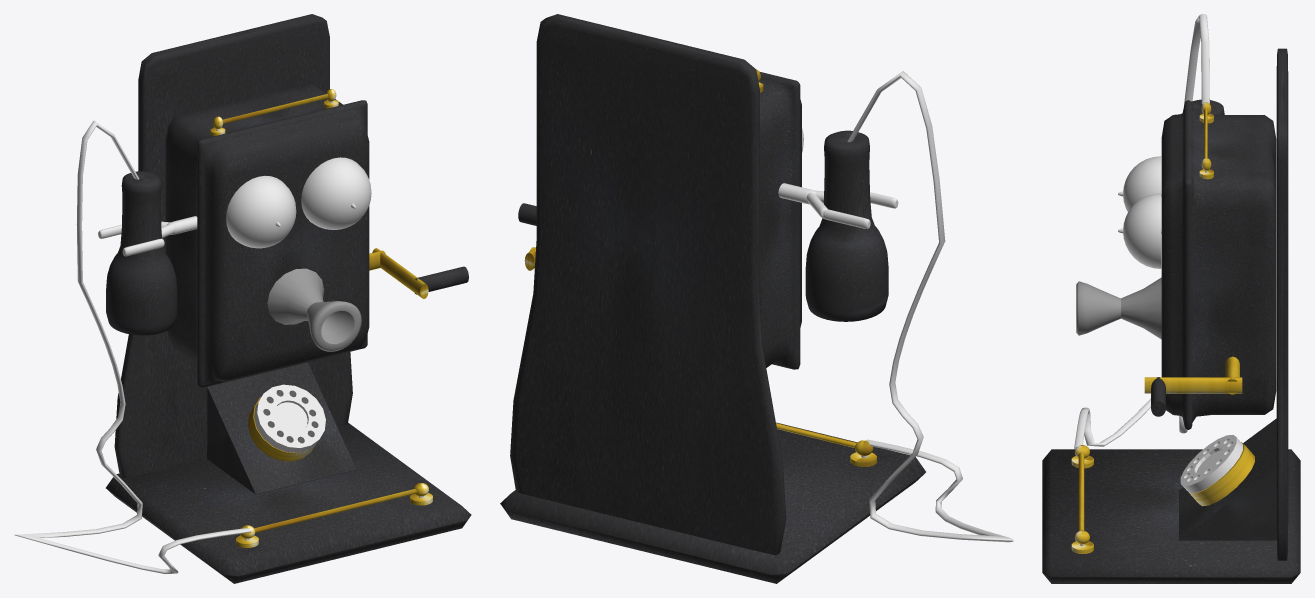
File: oldPhone.FBX
3 renders of one model, left to right at view 1: azimuth 30°, elevation 25°; view 2: azimuth 150°, elevation 25°; view 3: azimuth 270°, elevation 25°, orthographic. The views are drawn at different scales.
Visible parts, largest first — view 1: Box001, Box002, ChamferBox001, Box003, Cylinder014, Loft001, Sphere002, Sphere001, Cylinder012, Line004, Line003, Cylinder001 (+3 smaller); view 2: Box002, ChamferBox001, Box001, Cylinder014, Loft001; view 3: Box001, ChamferBox001, Box002, Box003, Loft001, Sphere002, Cylinder012, Line003, Line004, Cylinder021, Sphere001, Cylinder011 (+3 smaller).
Boxes of the visible parts, left/top/right/bottom form: Box001: left=165, top=83, right=369, bottom=387; Box002: left=114, top=14, right=352, bottom=477; ChamferBox001: left=106, top=423, right=471, bottom=583; Box003: left=207, top=362, right=356, bottom=494; Cylinder014: left=106, top=171, right=177, bottom=335; Loft001: left=14, top=120, right=251, bottom=574; Sphere002: left=301, top=157, right=371, bottom=229; Sphere001: left=226, top=175, right=296, bottom=248; Cylinder012: left=254, top=384, right=325, bottom=452; Line004: left=267, top=268, right=324, bottom=324; Line003: left=307, top=301, right=361, bottom=351; Cylinder001: left=254, top=489, right=416, bottom=532; Box002: left=510, top=14, right=786, bottom=555; ChamferBox001: left=500, top=422, right=925, bottom=583; Box001: left=759, top=71, right=801, bottom=369; Cylinder014: left=805, top=130, right=888, bottom=321; Loft001: left=847, top=71, right=1013, bottom=542; Box001: left=1161, top=100, right=1276, bottom=429; ChamferBox001: left=1042, top=449, right=1300, bottom=583; Box002: left=1276, top=48, right=1288, bottom=560; Box003: left=1179, top=418, right=1276, bottom=540; Loft001: left=1074, top=14, right=1209, bottom=449; Sphere002: left=1123, top=193, right=1161, bottom=268; Cylinder012: left=1180, top=435, right=1242, bottom=493; Line003: left=1076, top=281, right=1121, bottom=335; Line004: left=1121, top=277, right=1161, bottom=339; Cylinder021: left=1144, top=377, right=1242, bottom=393; Sphere001: left=1123, top=156, right=1161, bottom=211; Cylinder011: left=1189, top=442, right=1254, bottom=506.
Bounding box in the file's own units: 81.17 × 77.64 × 41.31.
3 materials, 2 textured.
